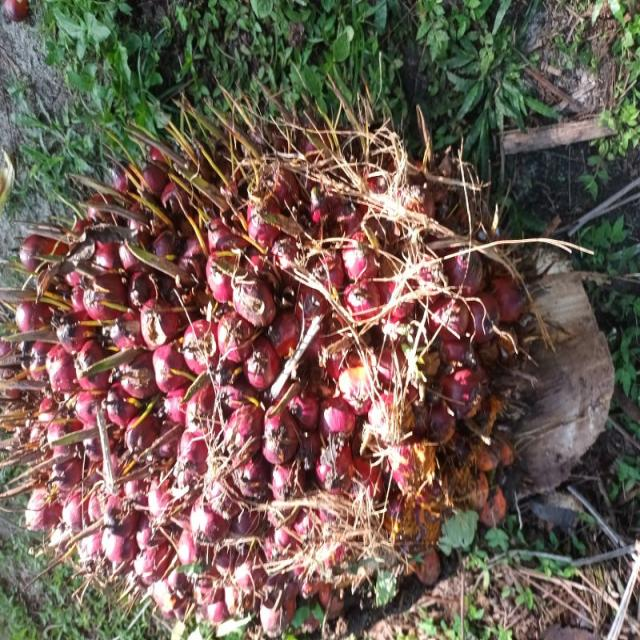fraksi 3: (104, 11, 625, 541)
